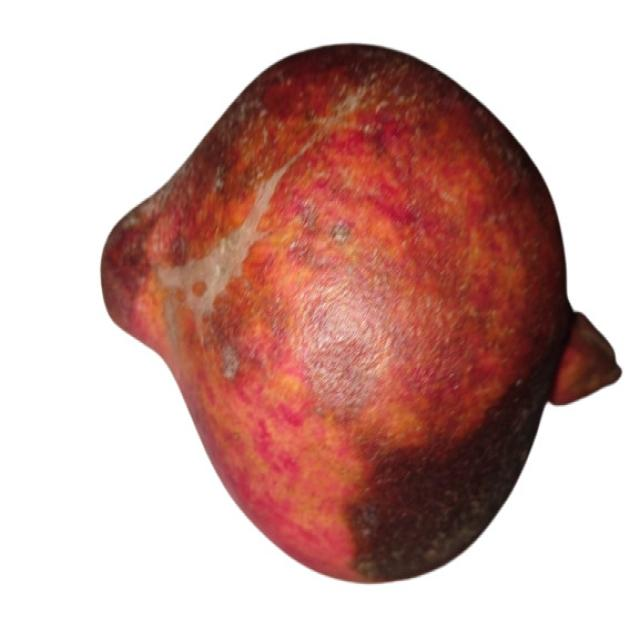Rotten: (100, 33, 624, 588)
